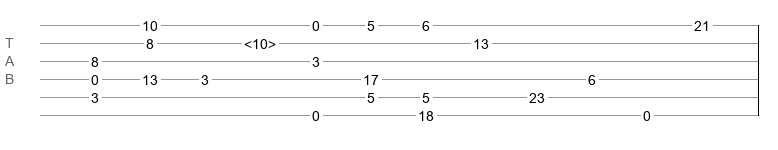0: (91, 72, 99, 82), (312, 18, 320, 28), (312, 108, 320, 118), (643, 108, 651, 118)
10: (142, 18, 158, 28)
13: (142, 72, 158, 82), (473, 36, 489, 46)
17: (363, 72, 379, 82)
18: (418, 108, 434, 118)
21: (694, 18, 710, 28)
23: (529, 90, 545, 100)
3: (91, 90, 99, 100), (201, 72, 209, 82), (312, 54, 320, 64)
5: (367, 18, 375, 28), (367, 90, 375, 100), (422, 90, 430, 100)
6: (422, 18, 430, 28), (588, 72, 596, 82)
8: (91, 54, 99, 64), (146, 36, 154, 46)
harmonic: (244, 36, 276, 46)
